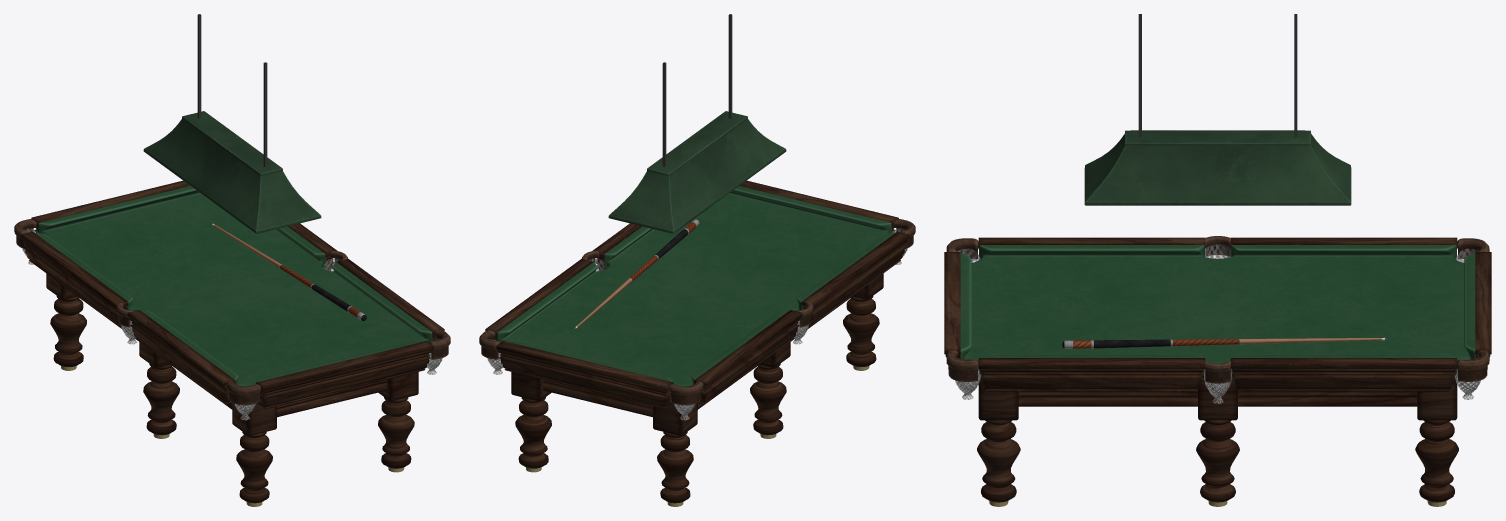
File: pool-table-traditional.glb
3 views of the same model, side by side, from view 1: azimuth 30°, elevation 25°; view 2: azimuth 150°, elevation 25°; view 3: azimuth 270°, elevation 25° (orthographic). The views are drawn at different scales.
Parts seen in each view (by area): view 1: pooltable_low_pool_table_mat_0, ceiling_light_low_light_mat_0, pool_cue_cue_mat_0; view 2: pooltable_low_pool_table_mat_0, ceiling_light_low_light_mat_0, pool_cue_cue_mat_0; view 3: pooltable_low_pool_table_mat_0, ceiling_light_low_light_mat_0, pool_cue_cue_mat_0.
Part boxes in pixels (box(x1,y1,x2,y2)): pooltable_low_pool_table_mat_0: box(14, 180, 450, 506); ceiling_light_low_light_mat_0: box(143, 14, 321, 233); pool_cue_cue_mat_0: box(211, 223, 366, 321); pooltable_low_pool_table_mat_0: box(479, 180, 915, 506); ceiling_light_low_light_mat_0: box(608, 14, 786, 233); pool_cue_cue_mat_0: box(574, 219, 699, 329); pooltable_low_pool_table_mat_0: box(944, 236, 1491, 506); ceiling_light_low_light_mat_0: box(1084, 14, 1351, 205); pool_cue_cue_mat_0: box(1062, 337, 1386, 348).
Size of the model in its own units: 1.41 by 2.25 by 2.49.
Materials: 3 (3 with a texture image).
